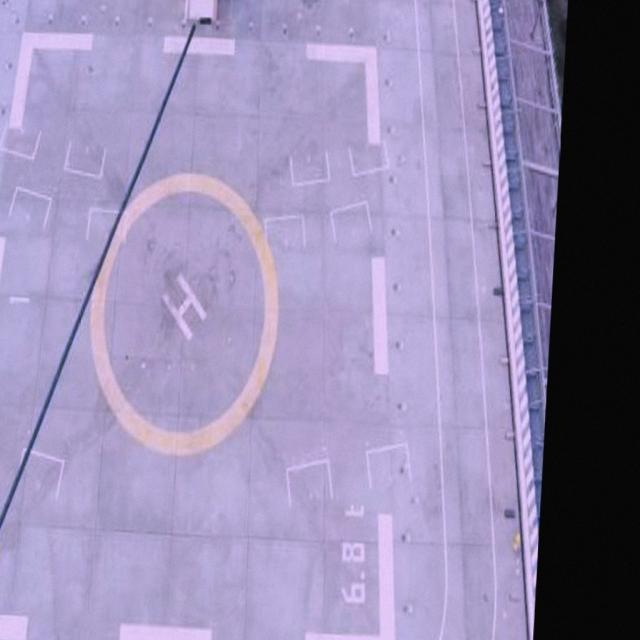helipad: (83, 166, 286, 461)
